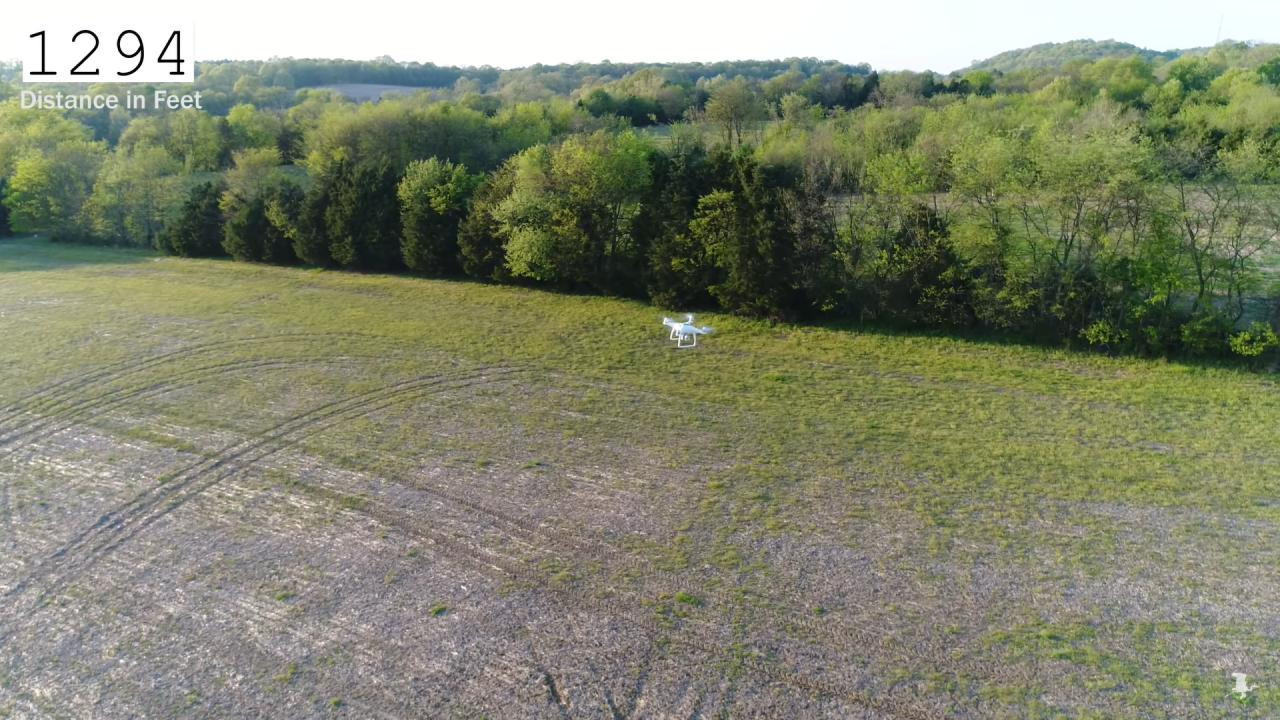Drone: (654, 306, 722, 354)
